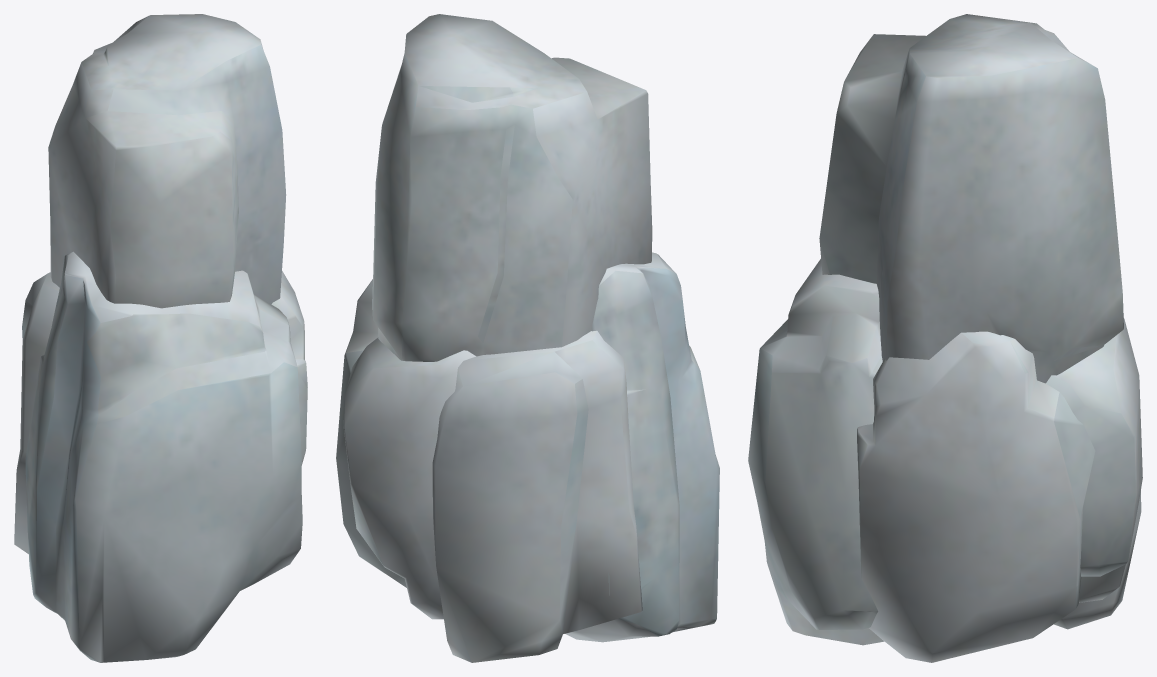
File: P_RockSpire_RockClumpB10.obj
3 views of the same model, side by side, from view 1: azimuth 30°, elevation 25°; view 2: azimuth 150°, elevation 25°; view 3: azimuth 270°, elevation 25° (orthographic). The views are drawn at different scales.
Bounding box in the file's own units: 14.11 × 26.98 × 15.29.
